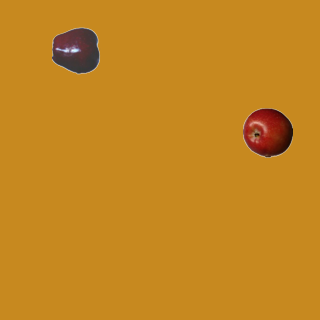Apple Braeburn: (242, 107, 292, 157)
Apple Red Delicious: (51, 25, 101, 75)
